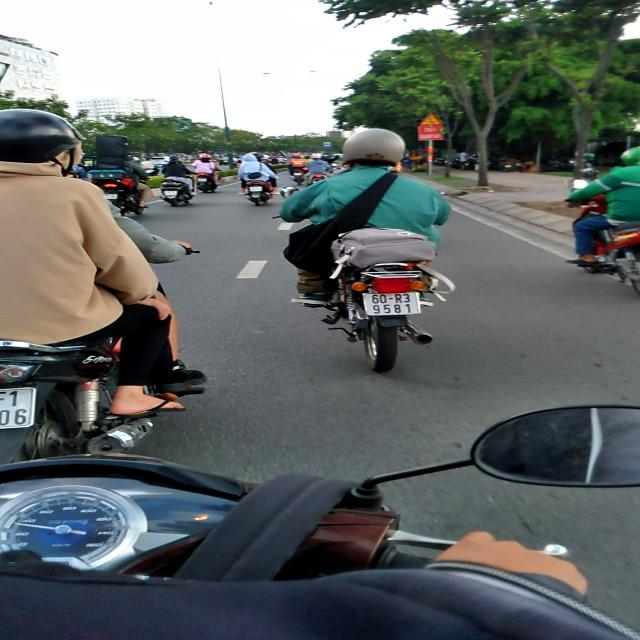R.434: (323, 142, 332, 148)
W.245a: (419, 113, 443, 125)
